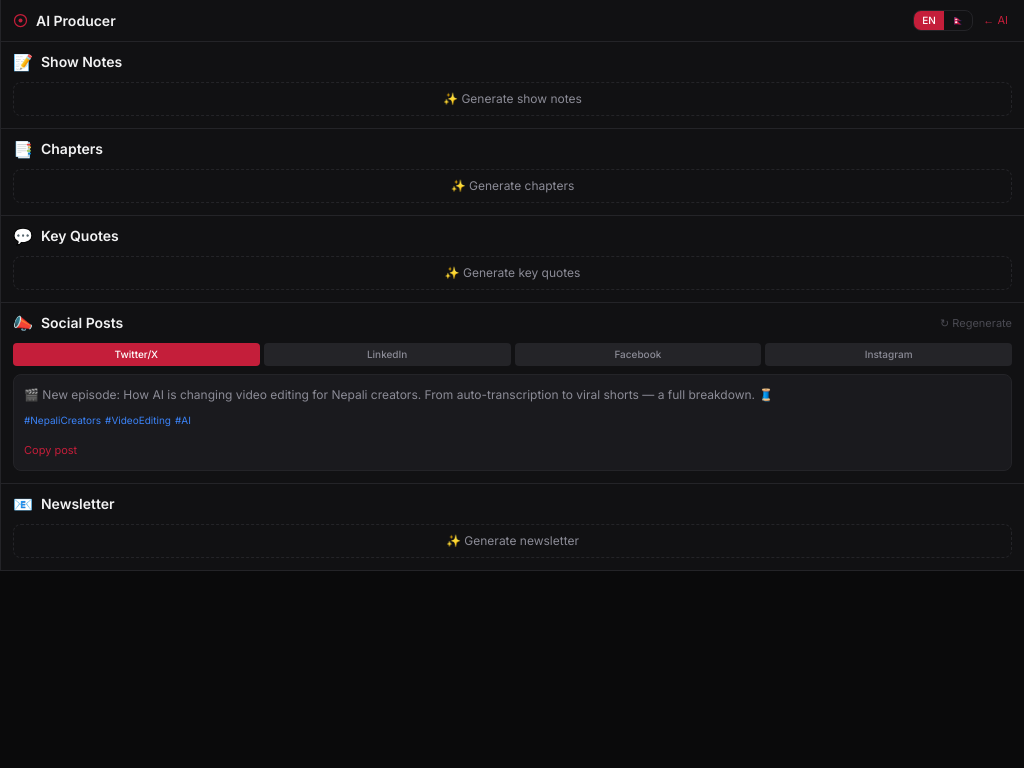
Test: AIProducerPanel — Social Posts result › clicking LinkedIn tab shows LinkedIn post
Click the tab with test id "social-tab-linkedin" at [387, 354], box x1=264 y1=343 x2=511 y2=366
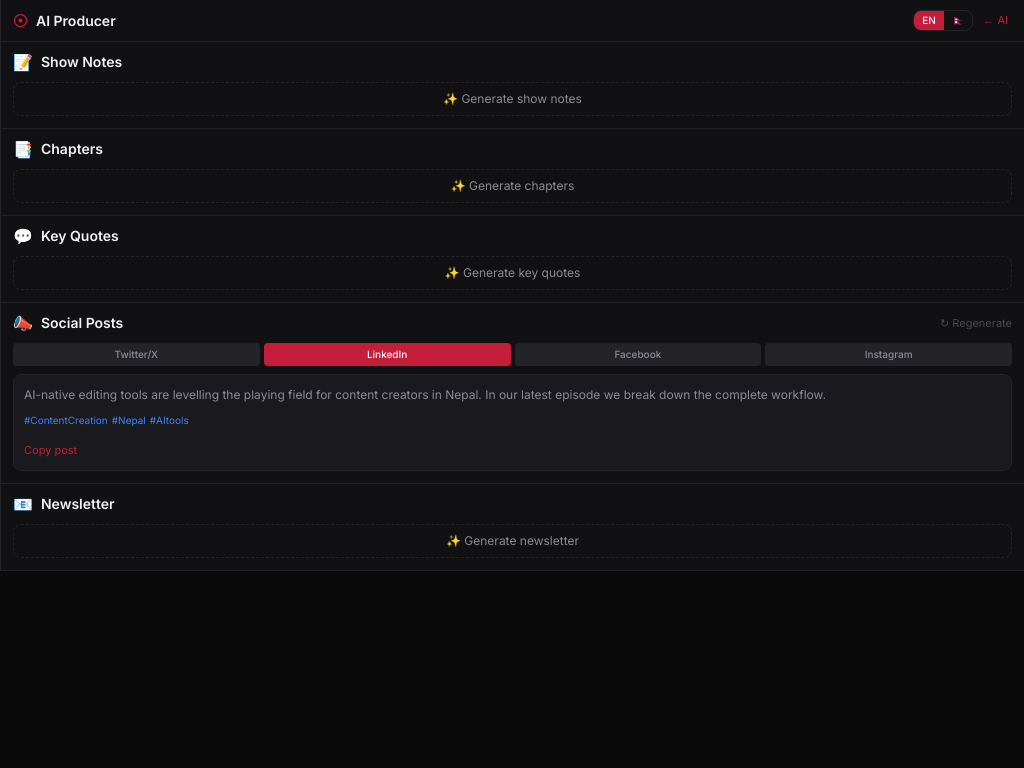
Expected: the element with test id "social-post-linkedin" is shown, x1=13 y1=374 x2=1012 y2=470
